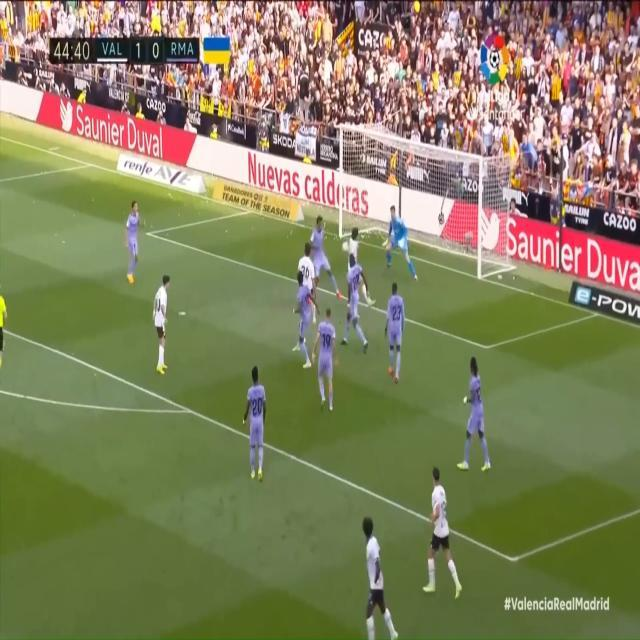ball: (342, 237, 349, 256)
goalkeeper: (380, 204, 423, 294)
player: (346, 514, 402, 640), (423, 461, 464, 617), (462, 347, 498, 486), (242, 364, 272, 479), (343, 256, 375, 361), (315, 214, 345, 310), (386, 280, 408, 396), (345, 218, 374, 305), (292, 274, 318, 369), (123, 196, 146, 296), (152, 269, 172, 383), (316, 309, 336, 423), (299, 244, 322, 321)
referee: (1, 279, 9, 381)
